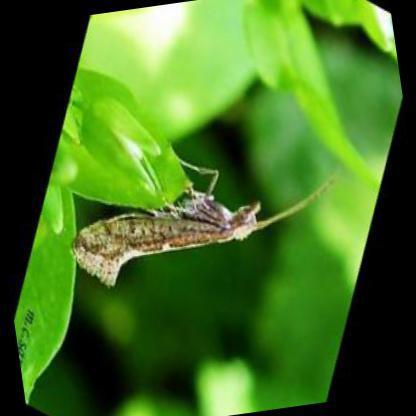plutella: (59, 153, 356, 298)
